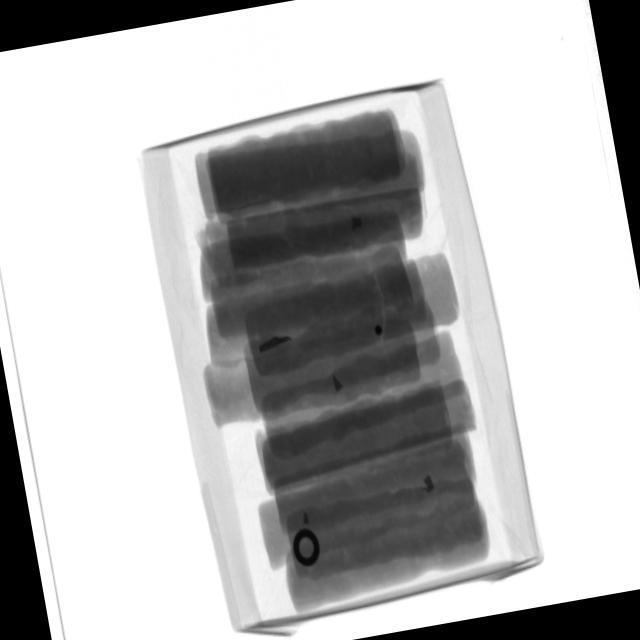ym: (290, 525, 323, 569), (258, 331, 295, 350), (350, 218, 364, 233), (301, 508, 312, 527), (423, 475, 435, 492), (334, 376, 345, 394), (373, 326, 383, 337)
